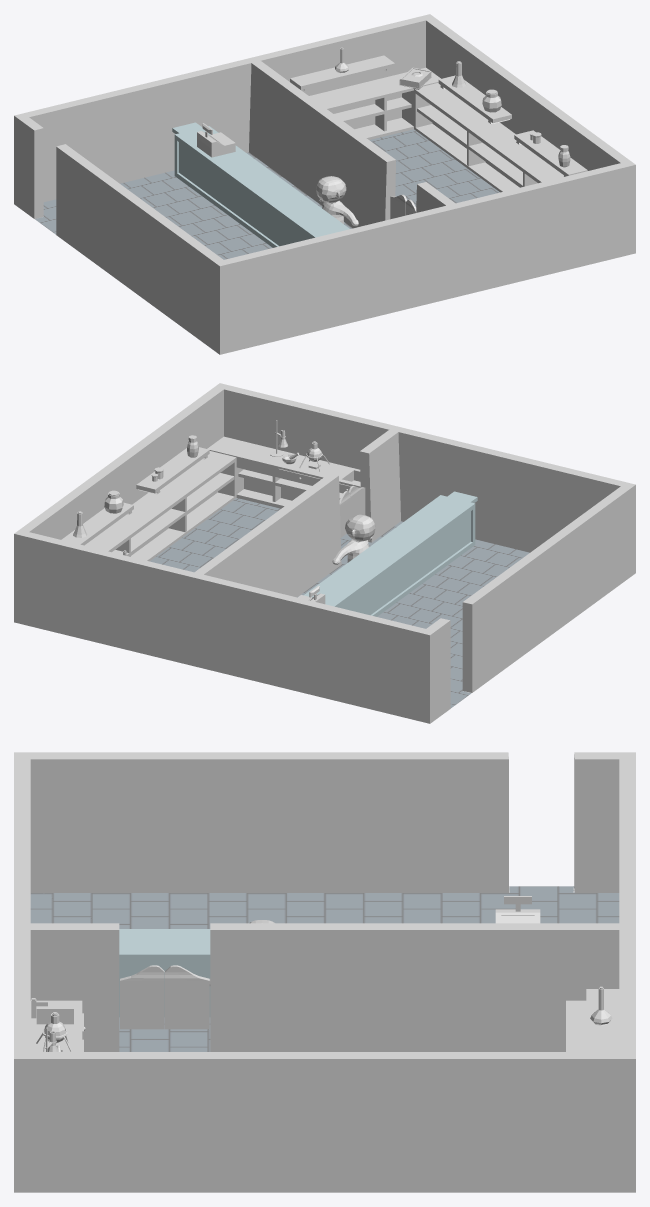
Rendered from magara51.fbx.
3 renders of one model, top to bottom at view 1: azimuth 30°, elevation 25°; view 2: azimuth 150°, elevation 25°; view 3: azimuth 270°, elevation 25°, orthographic. The views are drawn at different scales.
Parts seen in each view (by area): view 1: Plane, Cube.002, Cube.001, Cube.008, Cube.005, Cube.004, Cube.006, Cube.007, Cube.011, Cube.012; view 2: Plane, Cube.002, Cube.001, Cube.008, Cube.007, Cube.004, Cube.006; view 3: Plane, Cube.002, Cube.001, Plane.002, Plane.001, Cube.005, Cube.011.
Boxes of the visible parts, <box> form: Plane: <box>14,14,635,354</box>; Cube.002: <box>172,122,349,247</box>; Cube.001: <box>309,67,563,192</box>; Cube.008: <box>334,97,537,187</box>; Cube.005: <box>290,55,394,91</box>; Cube.004: <box>316,176,358,226</box>; Cube.006: <box>438,75,511,124</box>; Cube.007: <box>514,130,587,176</box>; Cube.011: <box>197,123,235,157</box>; Cube.012: <box>399,67,431,89</box>; Plane: <box>14,383,635,723</box>; Cube.002: <box>304,491,477,616</box>; Cube.001: <box>84,436,360,561</box>; Cube.008: <box>112,469,342,556</box>; Cube.007: <box>136,447,209,494</box>; Cube.004: <box>332,514,375,564</box>; Cube.006: <box>61,502,133,545</box>; Plane: <box>14,752,635,1192</box>; Cube.002: <box>119,929,210,1017</box>; Cube.001: <box>30,1000,586,1051</box>; Plane.002: <box>120,965,164,1029</box>; Plane.001: <box>165,965,209,1029</box>; Cube.005: <box>586,989,619,1051</box>; Cube.011: <box>495,896,540,923</box>.
Bounding box in the file's own units: 666 × 137 × 571.
Materials: 3 (1 with a texture image).
